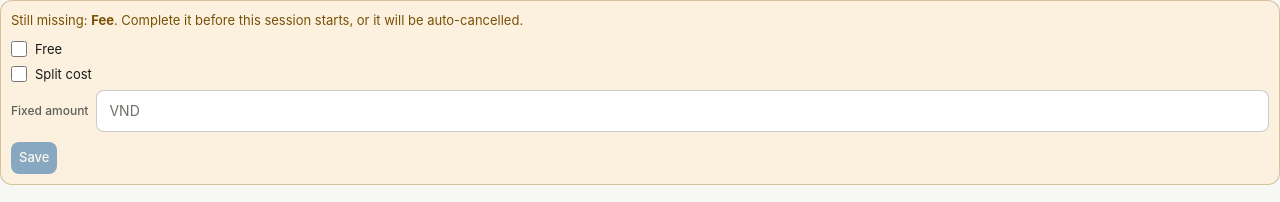
Test case: SessionPreparingCompletion › re-clicking a checked fee checkbox un-checks it, and Save disables again if it was the only field being completed
Click the checkbox labelled "Free". click: x=19, y=49
box: [11,41,27,57]
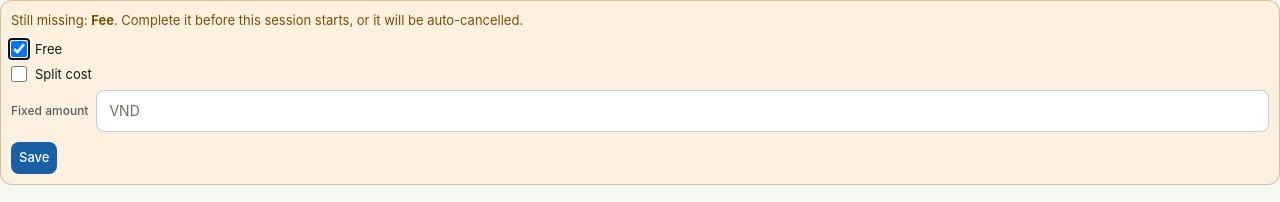
Result: the button "Save" is enabled at [11,142,57,174]
Click the checkbox labelled "Free". click: x=19, y=49
box: [11,41,27,57]
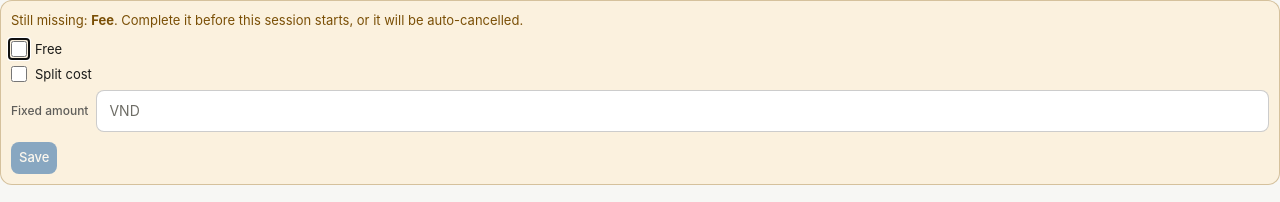
Result: the checkbox labelled "Free" is not checked at [11,41,27,57]
Result: the button "Save" is disabled at [11,142,57,174]
